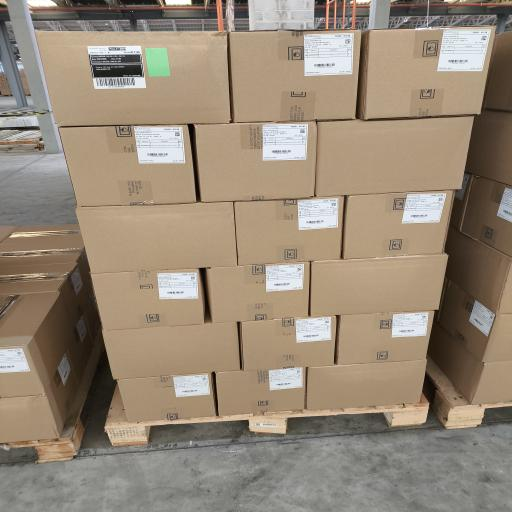pallet: (105, 387, 428, 446), (8, 334, 104, 463), (427, 357, 511, 428)
